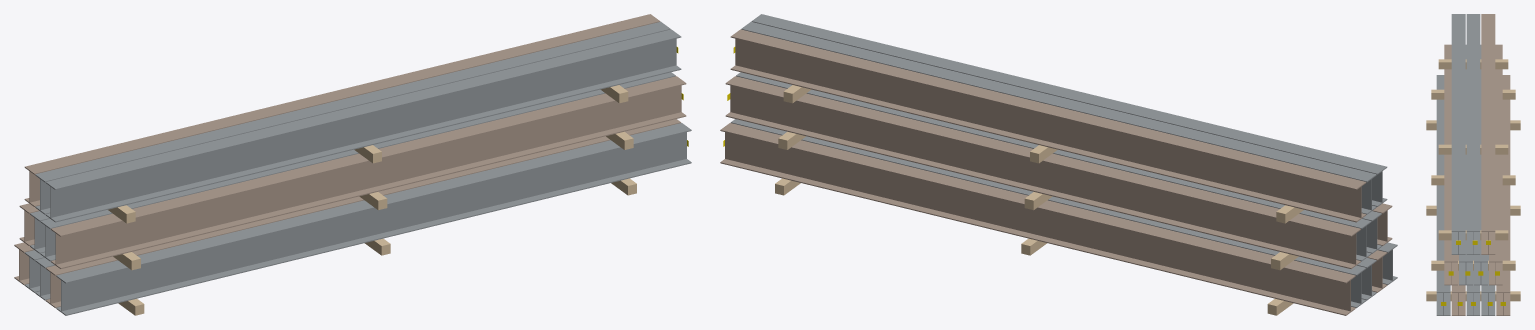
Rendered from Steel_Beam_Bundle_W12x26.glb.
The picture shows the model from 3 angles, left to right: view 1: azimuth 30°, elevation 25°; view 2: azimuth 150°, elevation 25°; view 3: azimuth 270°, elevation 25°; orthographic projection. The views are drawn at different scales.
Parts seen in each view (by area): view 1: beam_3_1, beam_2_1, beam_1_1, beam_3_2, beam_3_3, beam_1_2, beam_2_2, dunnage, beam_2_3, beam_2_4, beam_1_5, beam_1_4 (+1 smaller); view 2: beam_3_3, beam_2_4, beam_1_5, beam_3_1, beam_3_2, beam_1_4, beam_2_3, dunnage, beam_2_2, beam_2_1, beam_1_1, beam_1_2 (+1 smaller); view 3: beam_3_2, beam_3_1, beam_3_3, dunnage, beam_1_1, beam_1_5, beam_2_1, beam_2_4, beam_2_2, beam_2_3, beam_1_2, beam_1_4 (+2 smaller).
Part boxes in pixels (box(x1,y1,x2,y2)): beam_3_1: box(45, 29, 681, 222); beam_2_1: box(51, 76, 686, 268); beam_1_1: box(56, 123, 691, 315); beam_3_2: box(35, 21, 670, 214); beam_3_3: box(24, 14, 660, 206); beam_1_2: box(45, 119, 681, 308); beam_2_2: box(40, 72, 675, 261); dunnage: box(108, 85, 636, 315); beam_2_3: box(30, 211, 49, 253); beam_2_4: box(19, 203, 39, 245); beam_1_5: box(14, 242, 33, 285); beam_1_4: box(24, 250, 44, 292); beam_3_3: box(730, 29, 1366, 222); beam_2_4: box(725, 76, 1360, 268); beam_1_5: box(720, 123, 1355, 315); beam_3_1: box(751, 14, 1387, 206); beam_3_2: box(741, 21, 1376, 214); beam_1_4: box(730, 119, 1366, 308); beam_2_3: box(736, 72, 1371, 261); dunnage: box(775, 85, 1303, 315); beam_2_2: box(1362, 211, 1381, 253); beam_2_1: box(1372, 203, 1392, 245); beam_1_1: box(1378, 242, 1397, 285); beam_1_2: box(1367, 250, 1387, 292); beam_3_2: box(1466, 14, 1480, 254); beam_3_1: box(1451, 14, 1465, 254); beam_3_3: box(1481, 14, 1495, 254); dunnage: box(1426, 59, 1520, 301); beam_1_1: box(1436, 75, 1450, 315); beam_1_5: box(1496, 75, 1510, 315); beam_2_1: box(1444, 44, 1457, 285); beam_2_4: box(1489, 44, 1502, 285); beam_2_2: box(1459, 44, 1472, 285); beam_2_3: box(1474, 44, 1487, 285); beam_1_2: box(1451, 255, 1465, 315); beam_1_4: box(1481, 255, 1495, 315).
Size of the model in its own units: 6.1 by 1.2 by 1.12.
